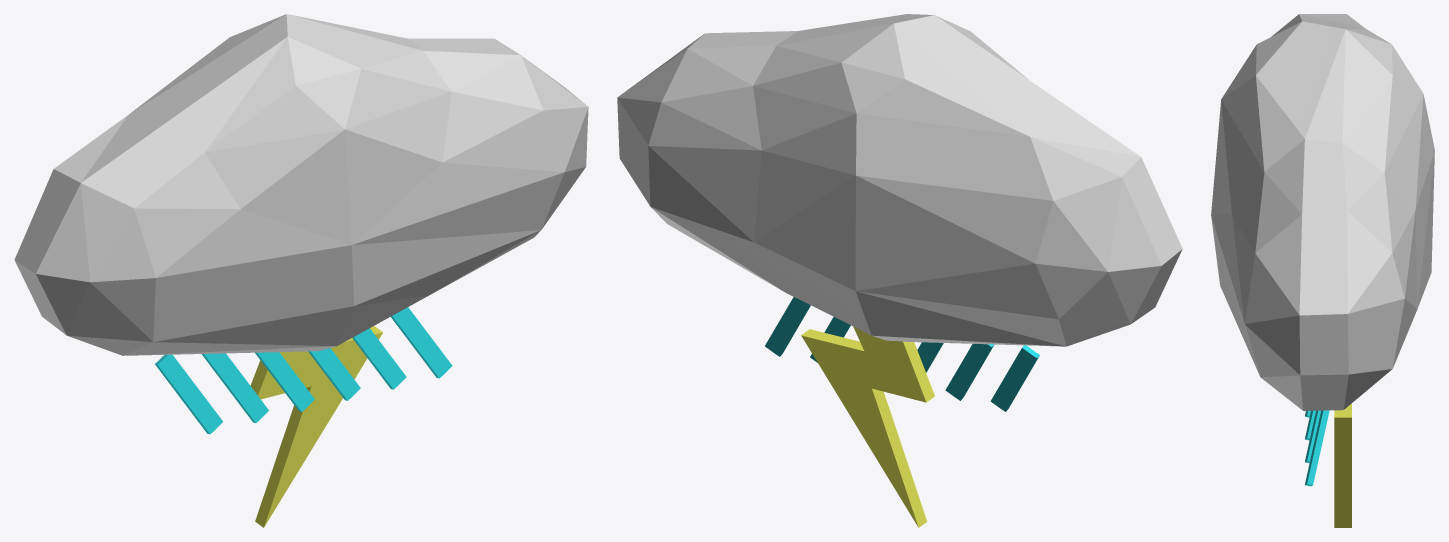
Rendered from thunder.glb.
3 renders of one model, left to right at view 1: azimuth 30°, elevation 25°; view 2: azimuth 150°, elevation 25°; view 3: azimuth 270°, elevation 25°, orthographic. The views are drawn at different scales.
Visible parts, largest first — view 1: Mball.004, Plane, Plane.001; view 2: Mball.004, Plane.001, Plane; view 3: Mball.004, Plane.001, Plane.
Part boxes in pixels (<box>): Mball.004: <box>14,14,588,355</box>; Plane: <box>155,307,452,434</box>; Plane.001: <box>250,326,382,527</box>; Mball.004: <box>617,14,1182,346</box>; Plane.001: <box>801,326,934,527</box>; Plane: <box>765,297,1039,411</box>; Mball.004: <box>1211,14,1434,410</box>; Plane.001: <box>1334,403,1351,527</box>; Plane: <box>1305,410,1329,486</box>.
Bounding box in the file's own units: 4.35 × 3.79 × 1.5.
